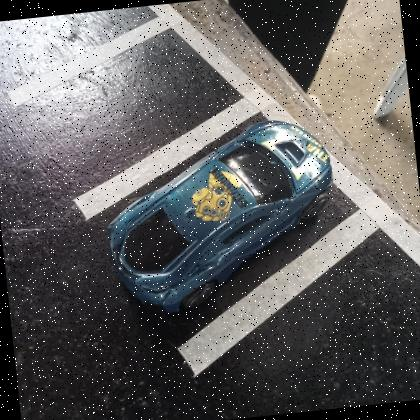Car: (107, 119, 332, 317)
